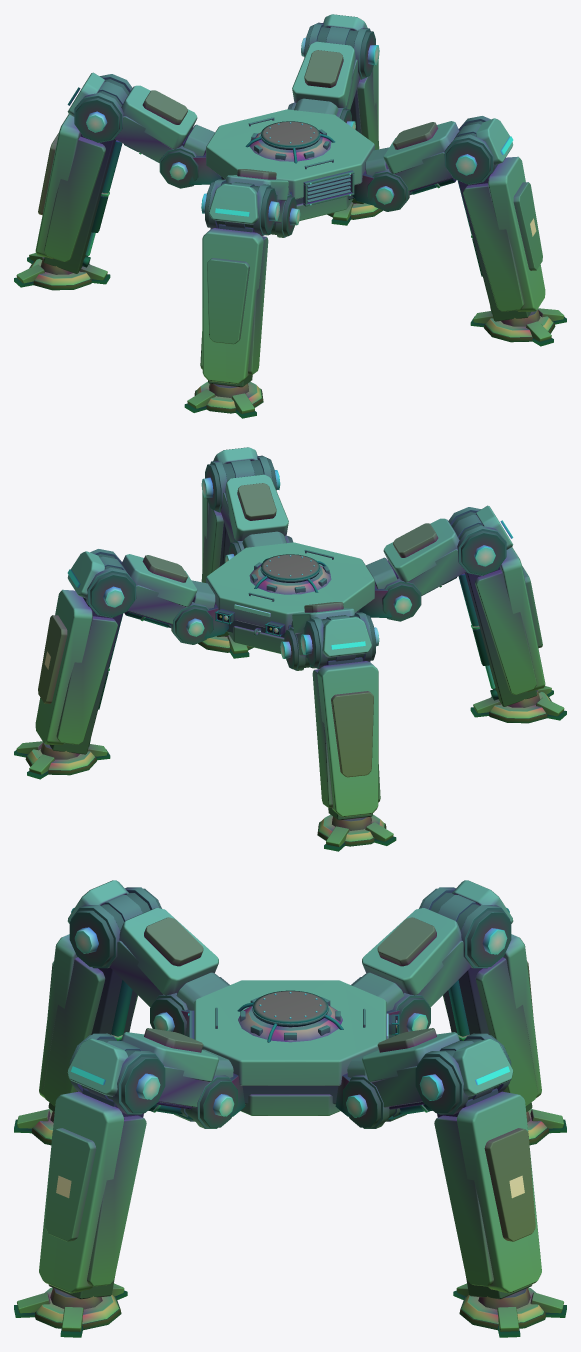
Rendered from legs_quad.glb.
3 views of the same model, one above another, from view 1: azimuth 30°, elevation 25°; view 2: azimuth 150°, elevation 25°; view 3: azimuth 270°, elevation 25° (orthographic). The views are drawn at different scales.
Visible parts, largest first — view 1: Body__armor, Leg_3_Knee__armor_sub, Leg_2_Knee__armor, Leg_2_Knee__armor_sub, Leg_0_Knee__armor_sub, Leg_3_Knee__armor, Leg_3_Femur__armor, Leg_1_Femur__armor, Leg_0_Femur__armor, Leg_2_Femur__armor, Body__gunmetal, Leg_0_Knee__armor (+30 smaller); view 2: Body__armor, Leg_0_Knee__armor, Leg_2_Knee__armor_sub, Leg_1_Knee__armor_sub, Leg_1_Knee__armor, Leg_0_Knee__armor_oxide, Leg_1_Femur__armor, Leg_3_Femur__armor, Leg_2_Femur__armor, Leg_0_Femur__armor, Leg_2_Knee__armor, Body__dark (+32 smaller); view 3: Body__armor, Leg_3_Knee__armor_sub, Leg_1_Knee__armor, Leg_3_Knee__armor, Leg_1_Knee__armor_sub, Leg_2_Knee__armor_sub, Leg_0_Knee__armor_sub, Leg_0_Femur__armor, Leg_2_Femur__armor, Leg_1_Femur__armor, Leg_3_Femur__armor, Leg_1_Knee__armor_oxide (+41 smaller).
Boxes of the visible parts, bbox=[...] form: Body__armor: bbox=[206, 109, 374, 199]; Leg_3_Knee__armor_sub: bbox=[463, 182, 542, 311]; Leg_2_Knee__armor: bbox=[202, 228, 263, 384]; Leg_2_Knee__armor_sub: bbox=[200, 236, 268, 374]; Leg_0_Knee__armor_sub: bbox=[44, 136, 105, 261]; Leg_3_Knee__armor: bbox=[488, 156, 545, 311]; Leg_3_Femur__armor: bbox=[383, 118, 513, 174]; Leg_1_Femur__armor: bbox=[292, 14, 367, 107]; Leg_0_Femur__armor: bbox=[67, 72, 197, 149]; Leg_2_Femur__armor: bbox=[209, 175, 288, 224]; Body__gunmetal: bbox=[245, 117, 354, 206]; Leg_0_Knee__armor: bbox=[35, 114, 80, 258]; Body__armor: bbox=[206, 542, 374, 631]; Leg_0_Knee__armor: bbox=[317, 661, 378, 817]; Leg_2_Knee__armor_sub: bbox=[475, 566, 542, 694]; Leg_1_Knee__armor_sub: bbox=[56, 616, 117, 744]; Leg_1_Knee__armor: bbox=[35, 589, 92, 744]; Leg_0_Knee__armor_oxide: bbox=[331, 691, 373, 777]; Leg_1_Femur__armor: bbox=[67, 551, 197, 607]; Leg_3_Femur__armor: bbox=[213, 447, 288, 540]; Leg_2_Femur__armor: bbox=[383, 505, 513, 582]; Leg_0_Femur__armor: bbox=[292, 608, 371, 657]; Leg_2_Knee__armor: bbox=[500, 547, 545, 691]; Body__dark: bbox=[217, 554, 359, 637]; Body__armor: bbox=[194, 980, 386, 1085]; Leg_3_Knee__armor_sub: bbox=[45, 1115, 146, 1286]; Leg_1_Knee__armor: bbox=[456, 1091, 541, 1293]; Leg_3_Knee__armor: bbox=[39, 1091, 124, 1293]; Leg_1_Knee__armor_sub: bbox=[434, 1115, 493, 1286]; Leg_2_Knee__armor_sub: bbox=[43, 957, 137, 1105]; Leg_0_Knee__armor_sub: bbox=[443, 957, 537, 1105]; Leg_0_Femur__armor: bbox=[362, 880, 513, 995]; Leg_2_Femur__armor: bbox=[67, 880, 218, 995]; Leg_1_Femur__armor: bbox=[362, 1032, 513, 1096]; Leg_3_Femur__armor: bbox=[67, 1032, 218, 1096]; Leg_1_Knee__armor_oxide: bbox=[484, 1128, 535, 1241].
Size of the model in its own units: 4.2 by 2.15 by 4.2.
